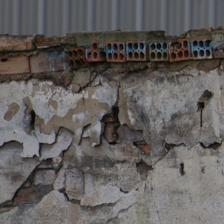Crack: (53, 28, 160, 115), (9, 19, 69, 130), (46, 7, 108, 91), (77, 35, 99, 77)
